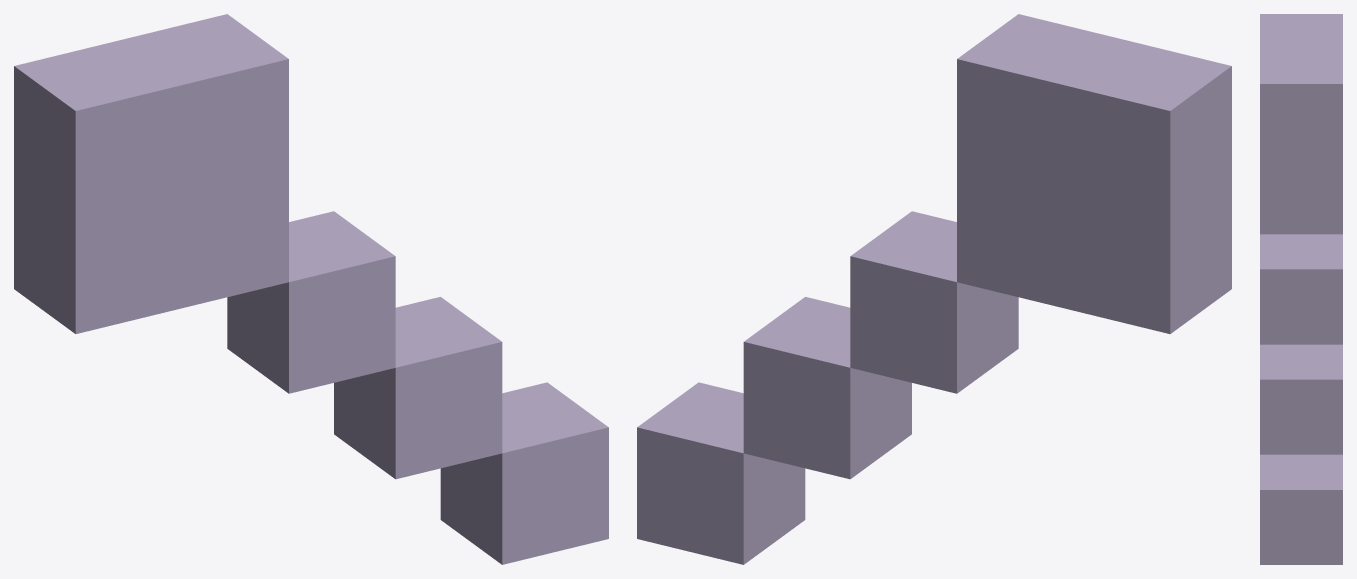
The model's file is Dart-Grey.vox.obj.
3 renders of one model, left to right at view 1: azimuth 30°, elevation 25°; view 2: azimuth 150°, elevation 25°; view 3: azimuth 270°, elevation 25°, orthographic. The views are drawn at different scales.
Size of the model in its own units: 0.5 by 0.5 by 0.1.
Materials: 1 (1 with a texture image).
